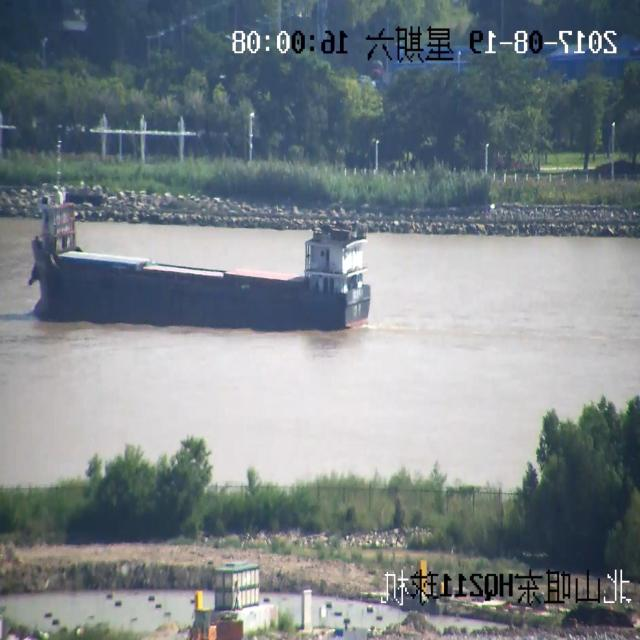houseboat: (18, 157, 382, 328)
